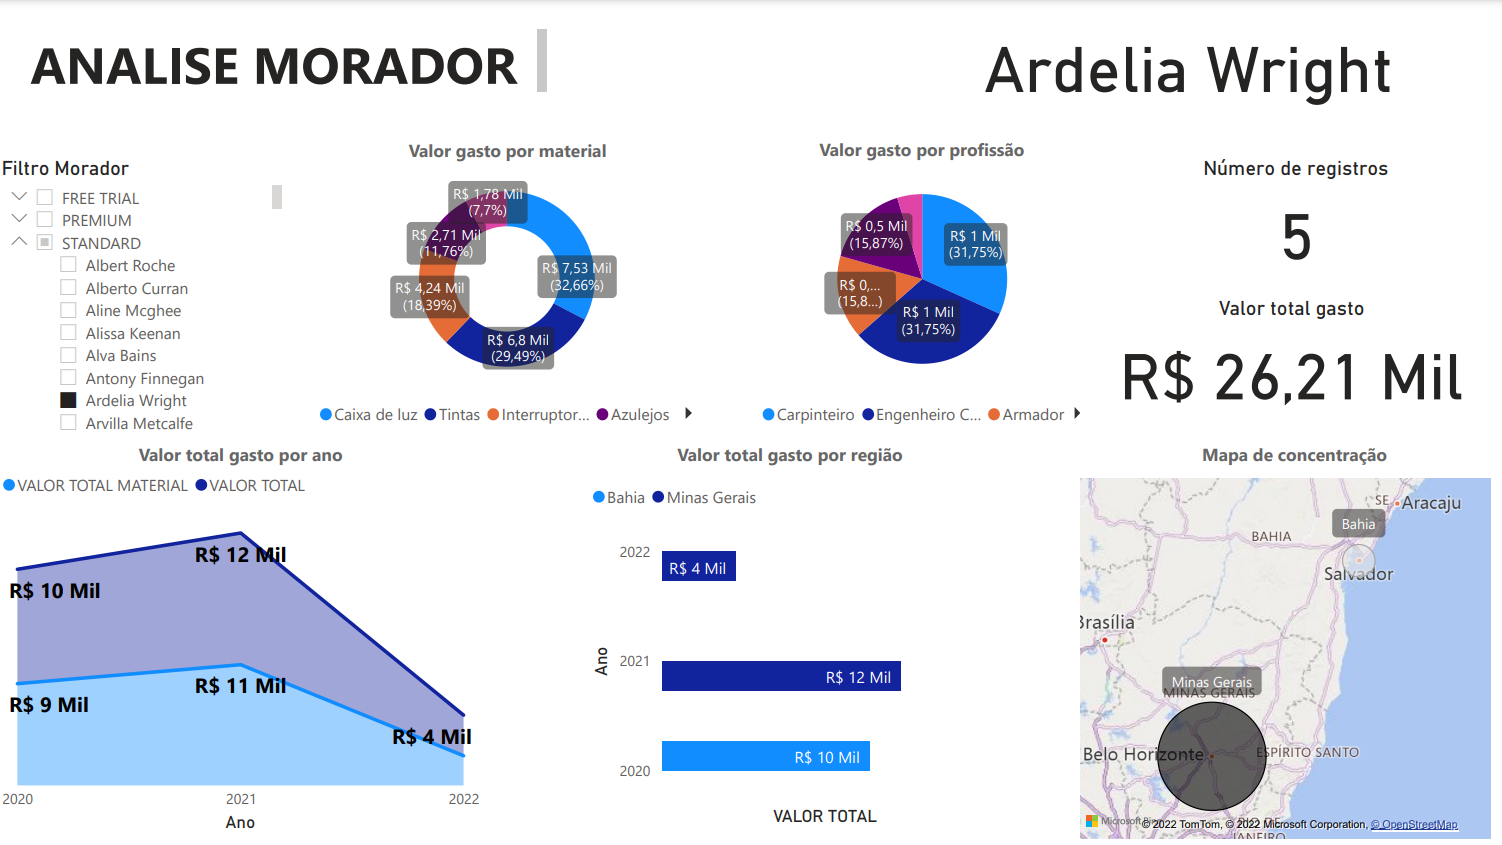

This screenshot's page, from the dashboard's own definition file:
{"tool":"powerbi","page":{"name":"Analise Morador","canvas":[1280,720],"ordinal":0},"visuals":[{"type":"card","title":"Número de registros","fields":{"Values":["CountNonNull(FATO_DESPESAS.SK_MORADOR)"]},"box":[1004.5,140.5,180.9,103],"z":0},{"type":"slicer","title":"Filtro Morador","fields":{"Values":["DIM_MORADOR.NM_TIPO","DIM_MORADOR.NM_MORADOR"]},"box":[0,140.5,246.3,236.5],"z":1000},{"type":"stackedAreaChart","fields":{"Category":["DIM_DATA.DATA_POR_EXTENSO.Variation.Hierarquia de datas.Ano","DIM_DATA.DATA_POR_EXTENSO.Variation.Hierarquia de datas.Trimestre","DIM_DATA.DATA_POR_EXTENSO.Variation.Hierarquia de datas.Mês","DIM_DATA.DATA_POR_EXTENSO.Variation.Hierarquia de datas.Dia"],"Y":["Sum(FATO_DESPESAS.VL_TOTAL_MATERIAL)","Sum(FATO_DESPESAS.VL_TOTAL)"]},"box":[0,397.9,411.8,317.2],"z":2000},{"type":"donutChart","fields":{"Category":["DIM_MATERIAL.NM_MATERIAL"],"Y":["Sum(FATO_DESPESAS.VL_TOTAL_MATERIAL)"]},"box":[267.1,140.5,327,236.5],"z":3000},{"type":"pieChart","fields":{"Category":["DIM_PRESTADOR.NM_PROFISSAO"],"Y":["Sum(FATO_DESPESAS.PR_DIARIA)"]},"box":[640,140.5,281,236.5],"z":4000},{"type":"map","fields":{"Category":["DIM_RESIDENCIA.NM_ESTADO"],"Size":["CountNonNull(FATO_DESPESAS.SK_RESIDENCIA)"]},"box":[908.5,407.7,354.8,313],"z":5000},{"type":"clusteredBarChart","fields":{"Category":["DIM_DATA.DATA_POR_EXTENSO.Variation.Hierarquia de datas.Ano","DIM_DATA.DATA_POR_EXTENSO.Variation.Hierarquia de datas.Trimestre","DIM_DATA.DATA_POR_EXTENSO.Variation.Hierarquia de datas.Mês","DIM_DATA.DATA_POR_EXTENSO.Variation.Hierarquia de datas.Dia"],"Series":["DIM_RESIDENCIA.NM_ESTADO"],"Y":["Sum(FATO_DESPESAS.VL_TOTAL)"]},"box":[496.7,407.7,343.7,301.9],"z":6000},{"type":"card","title":"Valor total gasto","fields":{"Values":["Sum(FATO_DESPESAS.VL_TOTAL)"]},"box":[919.7,258.8,343.7,103],"z":7000},{"type":"card","fields":{"Values":["Min(DIM_MORADOR.NM_MORADOR)"]},"box":[759.7,0,489.7,122.4],"z":8000},{"type":"textbox","box":[23.7,29.2,445.2,65.4],"z":9000},{"type":"textbox","box":[55.7,377,300.5,40.3],"z":10000},{"type":"textbox","box":[519,377,300.5,40.3],"z":11000},{"type":"textbox","box":[941.9,377,300.5,40.3],"z":12000},{"type":"textbox","box":[281,121,300.5,40.3],"z":13000},{"type":"textbox","box":[630.3,119.7,300.5,40.3],"z":14000}]}

Visuals, with their boxes in screenshot pixels (x1, y1, x2, y2), scaled from the page's 1280x720 canvas onto the 1502x845 screenshot:
"Número de registros" card: x1=1179, y1=165, x2=1391, y2=286
"Filtro Morador" slicer: x1=0, y1=165, x2=289, y2=442
stackedAreaChart - DIM_DATA.DATA_POR_EXTENSO.Variation.Hierarquia de datas.Ano x DIM_DATA.DATA_POR_EXTENSO.Variation.Hierarquia de datas.Trimestre: x1=0, y1=467, x2=483, y2=839
donutChart - DIM_MATERIAL.NM_MATERIAL x Sum(FATO_DESPESAS.VL_TOTAL_MATERIAL): x1=313, y1=165, x2=697, y2=442
pieChart - DIM_PRESTADOR.NM_PROFISSAO x Sum(FATO_DESPESAS.PR_DIARIA): x1=751, y1=165, x2=1081, y2=442
map - DIM_RESIDENCIA.NM_ESTADO x CountNonNull(FATO_DESPESAS.SK_RESIDENCIA): x1=1066, y1=478, x2=1482, y2=844
clusteredBarChart - DIM_DATA.DATA_POR_EXTENSO.Variation.Hierarquia de datas.Ano x DIM_DATA.DATA_POR_EXTENSO.Variation.Hierarquia de datas.Trimestre: x1=583, y1=478, x2=986, y2=833
"Valor total gasto" card: x1=1079, y1=304, x2=1483, y2=425
card - Min(DIM_MORADOR.NM_MORADOR): x1=891, y1=0, x2=1466, y2=144
textbox: x1=28, y1=34, x2=550, y2=111
textbox: x1=65, y1=442, x2=418, y2=490
textbox: x1=609, y1=442, x2=962, y2=490
textbox: x1=1105, y1=442, x2=1458, y2=490
textbox: x1=330, y1=142, x2=682, y2=189
textbox: x1=740, y1=140, x2=1092, y2=188
